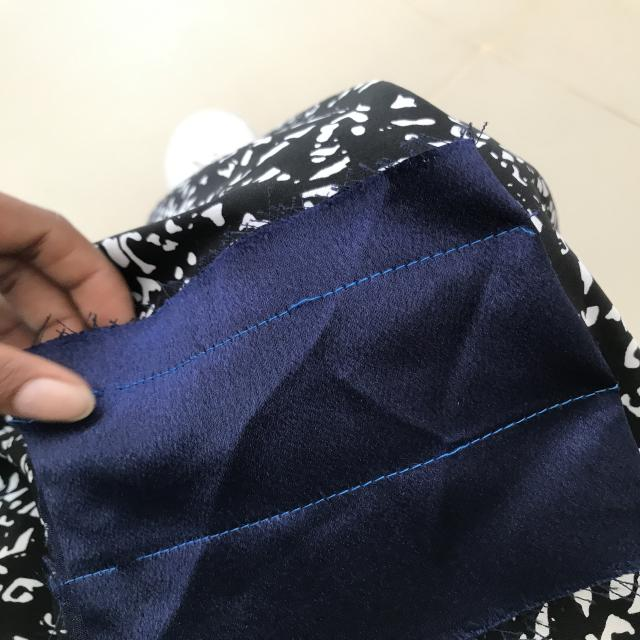broken: (94, 553, 163, 584)
skip: (286, 280, 330, 326)
